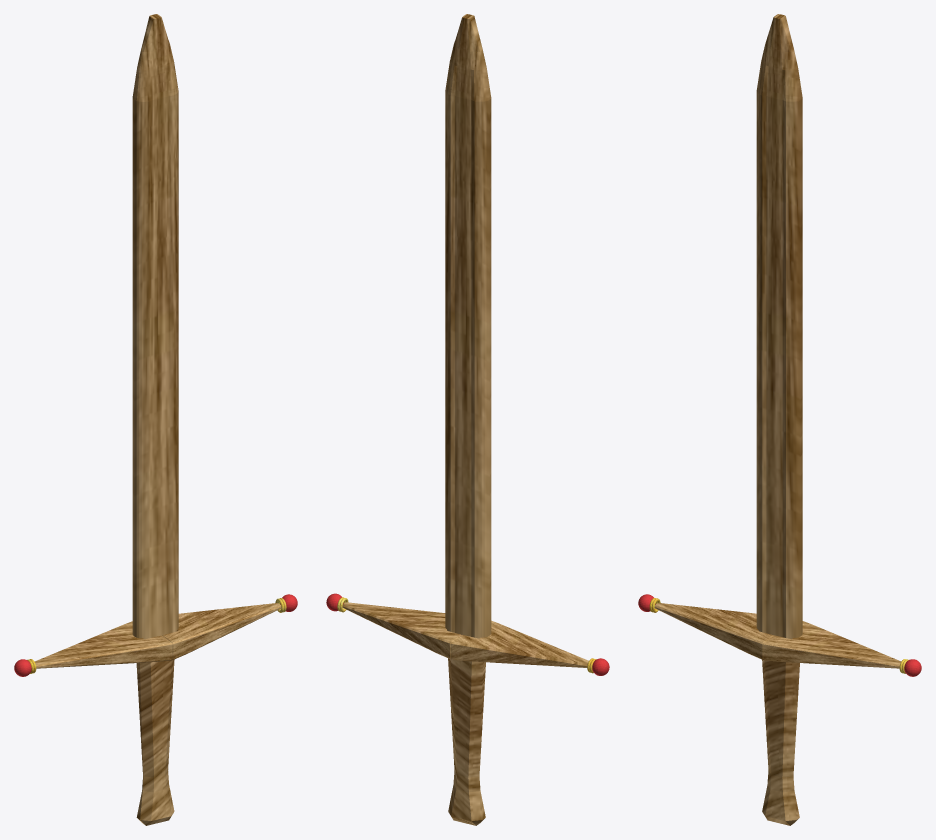
The model's file is Sword.fbx.
3 renders of one model, left to right at view 1: azimuth 30°, elevation 25°; view 2: azimuth 150°, elevation 25°; view 3: azimuth 330°, elevation 25°, orthographic.
Visible parts, largest first — view 1: Sphere; view 2: Sphere; view 3: Sphere.
Boxes of the visible parts, x1,y1,x2,y2 form: Sphere: (14, 14, 297, 825); Sphere: (326, 14, 609, 825); Sphere: (638, 14, 921, 825).
Bounding box in the file's own units: 322 × 881 × 67.47.
